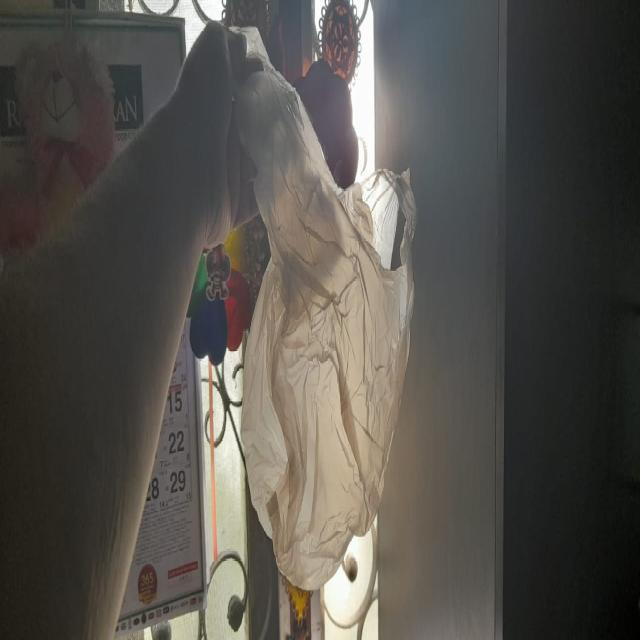Plastic - Recyclable: (224, 21, 418, 596)
